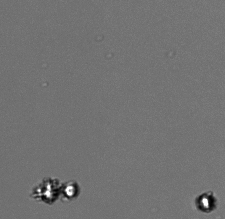Living Cell: (33, 175, 61, 206), (194, 190, 217, 213), (62, 177, 81, 202)
